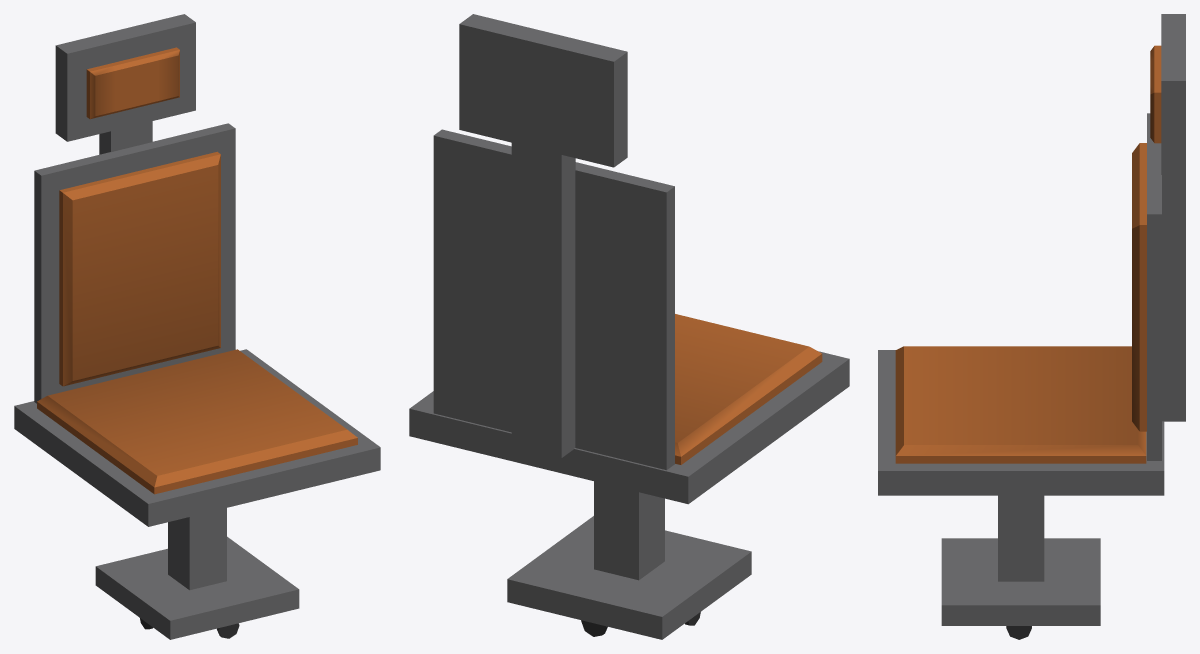
File: Laboratorio.fbx_Cadeira.fbx
3 views of the same model, side by side, from view 1: azimuth 30°, elevation 25°; view 2: azimuth 150°, elevation 25°; view 3: azimuth 270°, elevation 25° (orthographic). The views are drawn at different scales.
Parts seen in each view (by area): view 1: Cadeira; view 2: Cadeira; view 3: Cadeira.
Part boxes in pixels (x1=…): Cadeira: x1=14, y1=14, x2=380, y2=639; Cadeira: x1=409, y1=14, x2=849, y2=639; Cadeira: x1=878, y1=14, x2=1185, y2=639.
Size of the model in its own units: 59.77 by 130 by 64.32.
